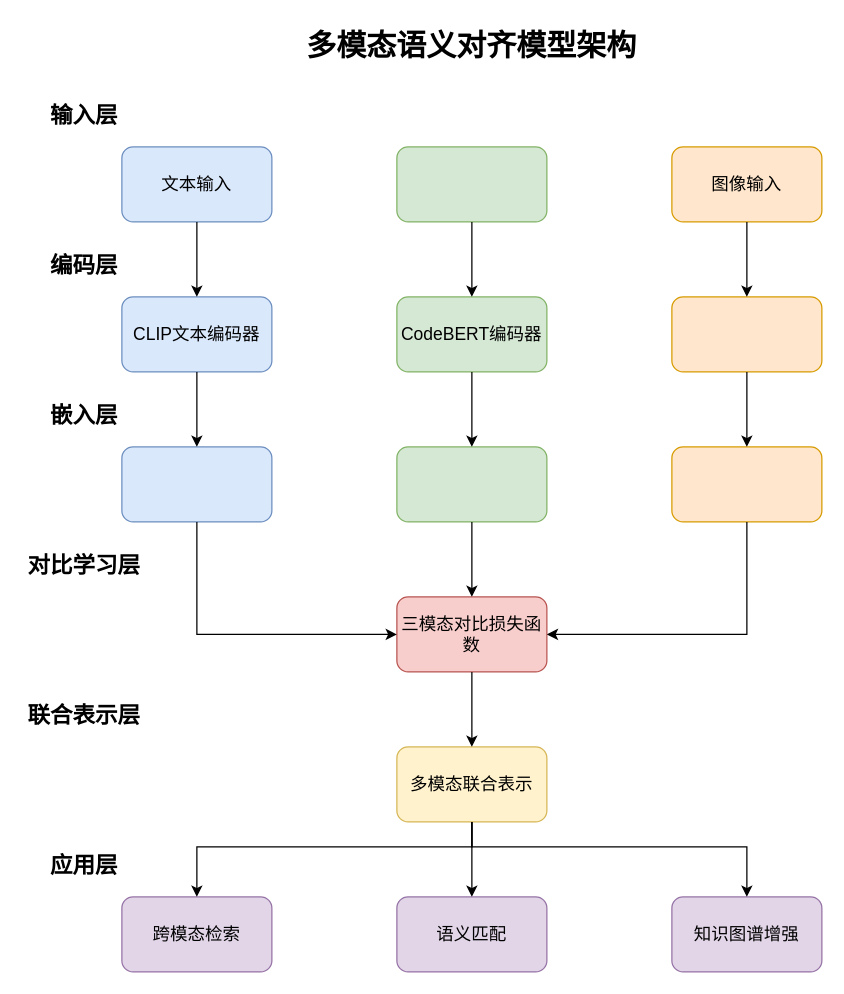
The diagram is 844 pixels wide and 994 high, and some of its shapes have lost their labels. Each missing label, with the box of its shape:
CLIP图像编码器: (671, 296, 822, 372)
代码嵌入向量: (396, 446, 547, 522)
代码输入: (396, 146, 547, 222)
图像嵌入向量: (671, 446, 822, 522)
文本嵌入向量: (121, 446, 272, 522)
